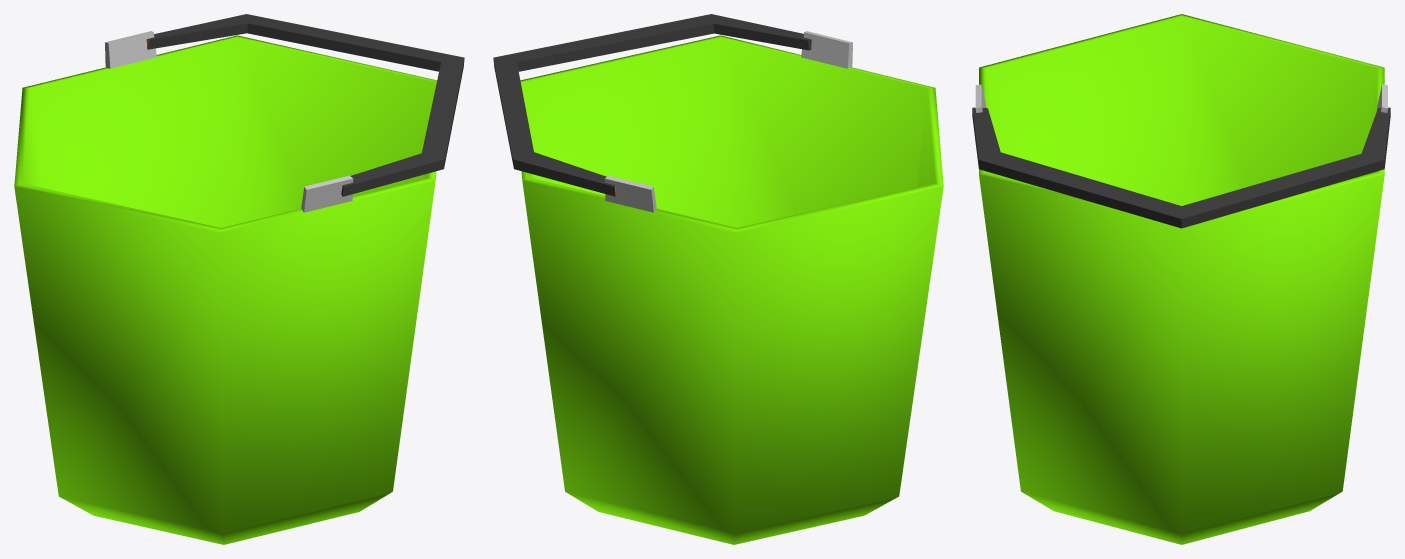
File: Bucket_B.FBX
The picture shows the model from 3 angles, left to right: view 1: azimuth 30°, elevation 25°; view 2: azimuth 150°, elevation 25°; view 3: azimuth 270°, elevation 25°; orthographic projection. The views are drawn at different scales.
Parts seen in each view (by area): view 1: Bucket; view 2: Bucket; view 3: Bucket.
Part boxes in pixels (x1=…): Bucket: x1=14, y1=14, x2=464, y2=544; Bucket: x1=493, y1=14, x2=943, y2=544; Bucket: x1=972, y1=14, x2=1390, y2=544.
Size of the model in its own units: 81.17 by 64.26 by 63.84.
